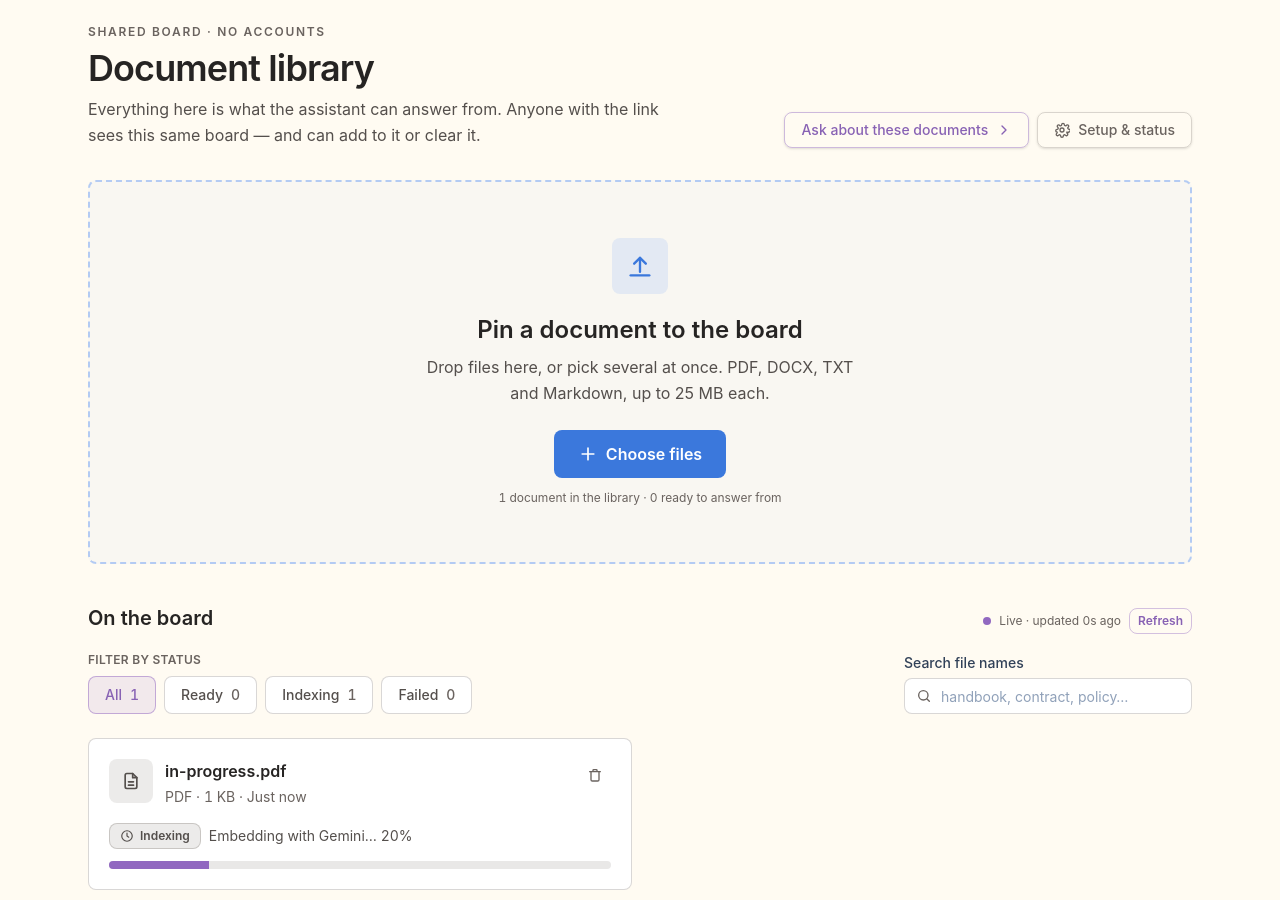
Test: Documents screen — indexing progress and failures › allows deleting a document that is still processing, and its poller stops for that id once deleted
Expected: the heading "in-progress.pdf" is shown, [165,761,286,781]
Click the button named "delete in-progress.pdf": [595, 775] box [579,759,611,791]
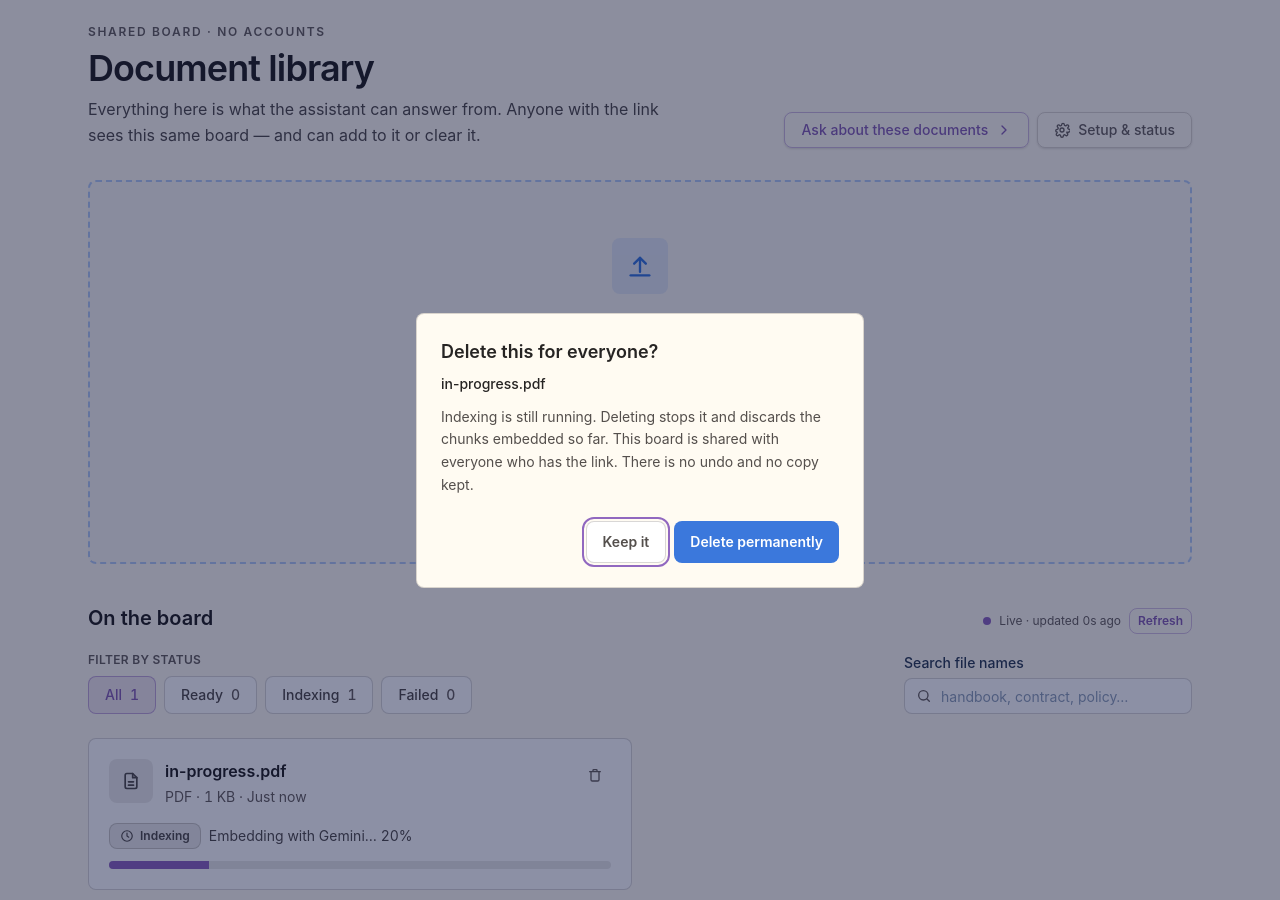
Click the button "Delete permanently": [757, 542] box [674,520,839,562]
Wait 10000 ms
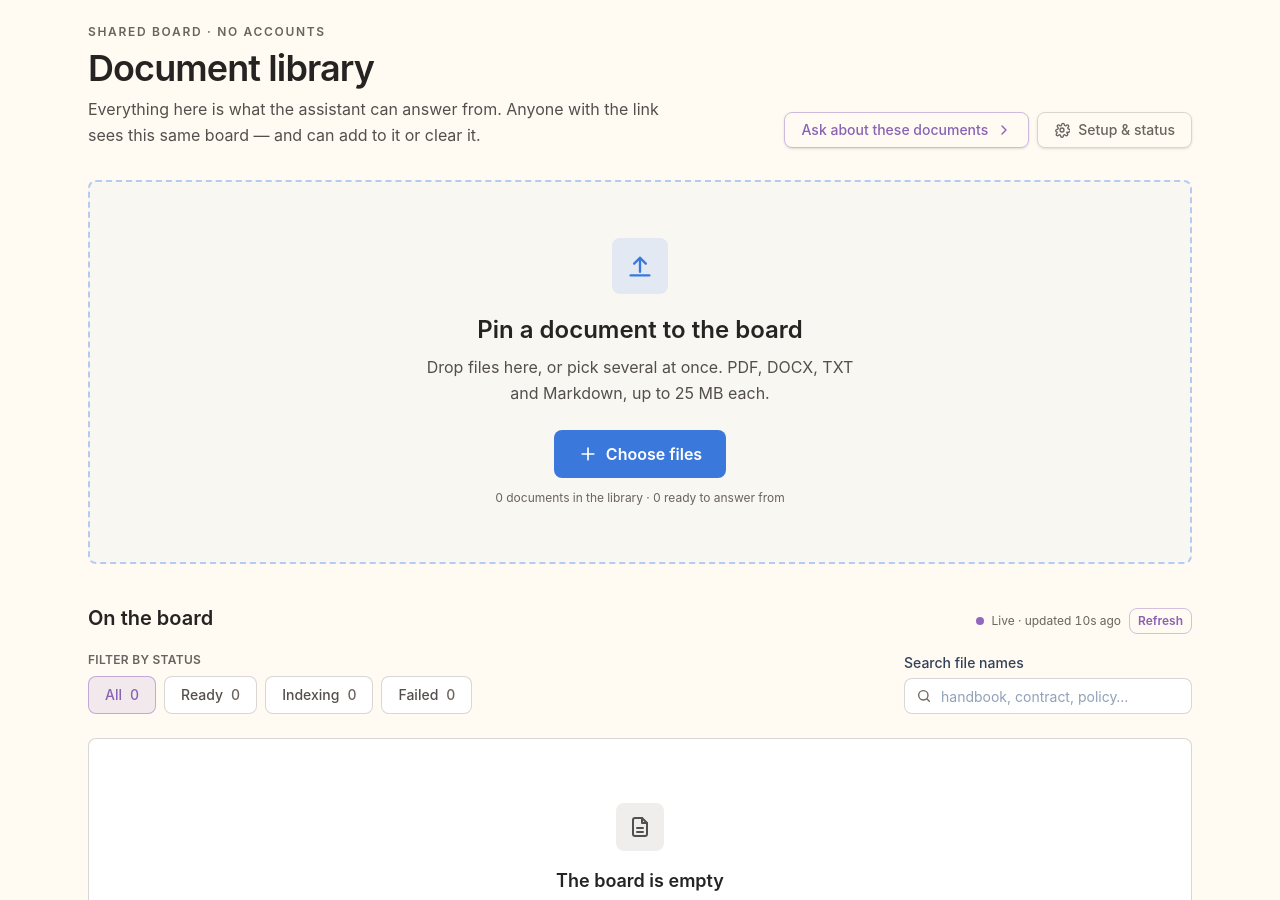
Expected: the heading "in-progress.pdf" is gone
